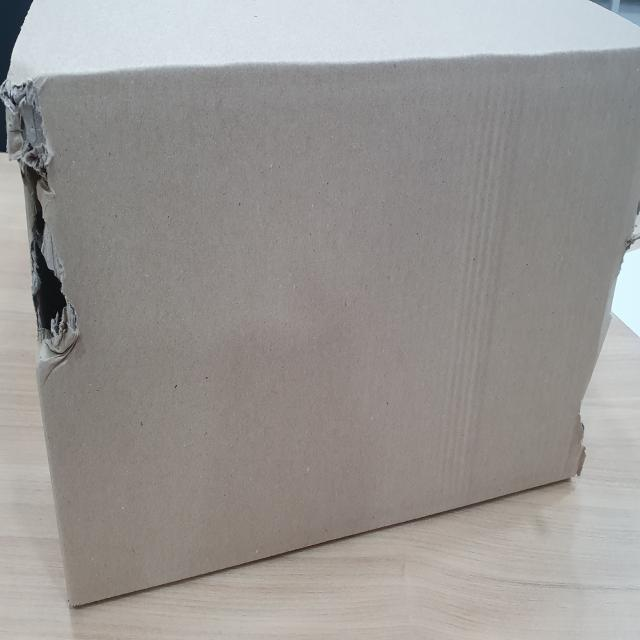hole: (5, 83, 82, 359)
